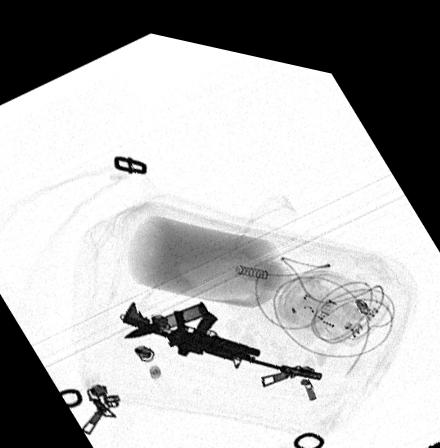Bullet: (122, 291, 208, 331)
Gun: (121, 294, 320, 367)
